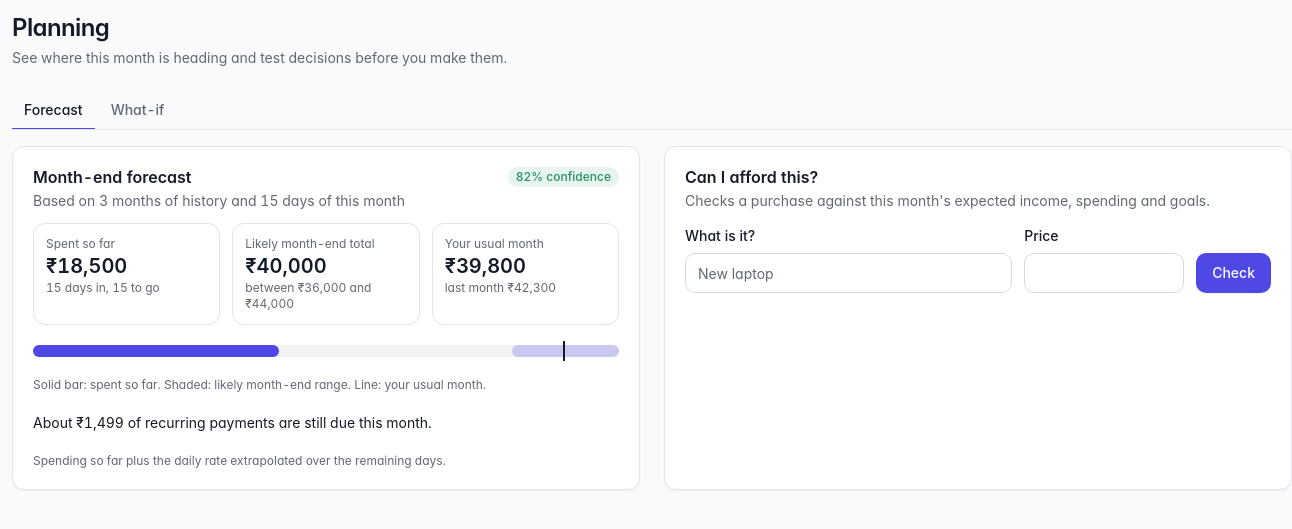
Scenario: PlanningPage › checks whether a purchase is affordable
Click the button "Check" at (1234, 273), box x1=1196 y1=253 x2=1271 y2=293
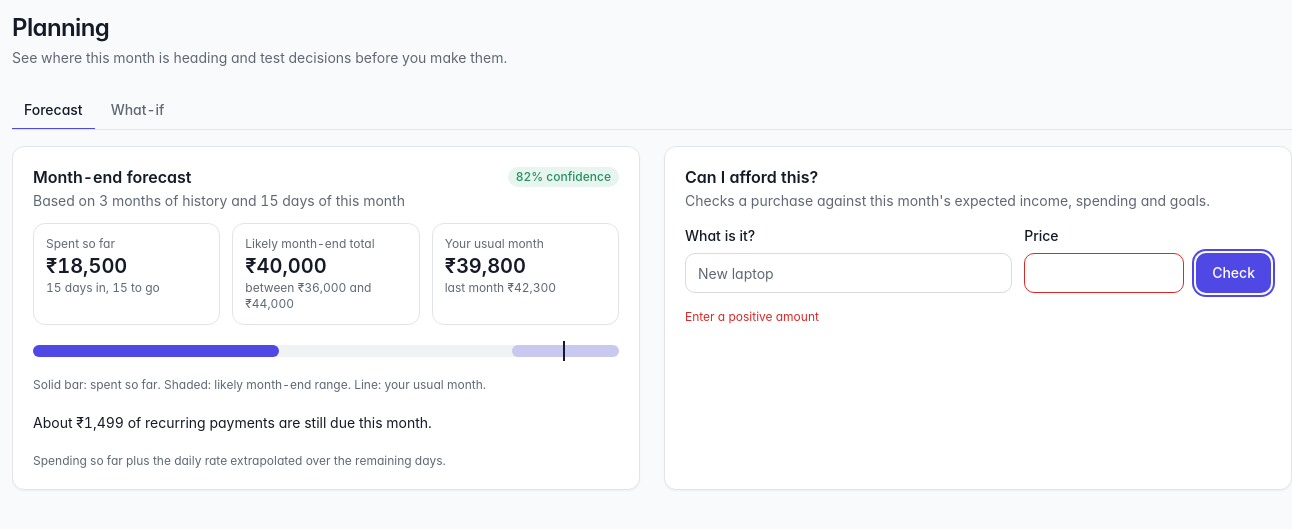
Now the text "Enter a positive amount" is shown, box x1=685 y1=309 x2=819 y2=324
Type "Laptop" into the field labelled "What is it?" at (849, 273), box x1=685 y1=253 x2=1012 y2=293
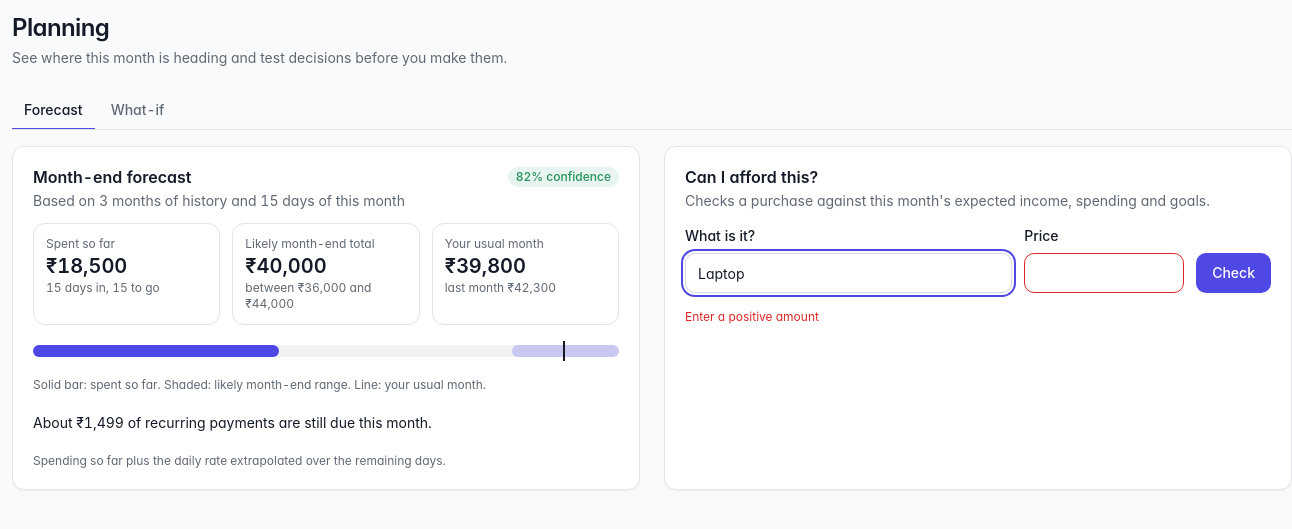
Type "10,000" into the field labelled "Price" at (1104, 273), box x1=1024 y1=253 x2=1184 y2=293
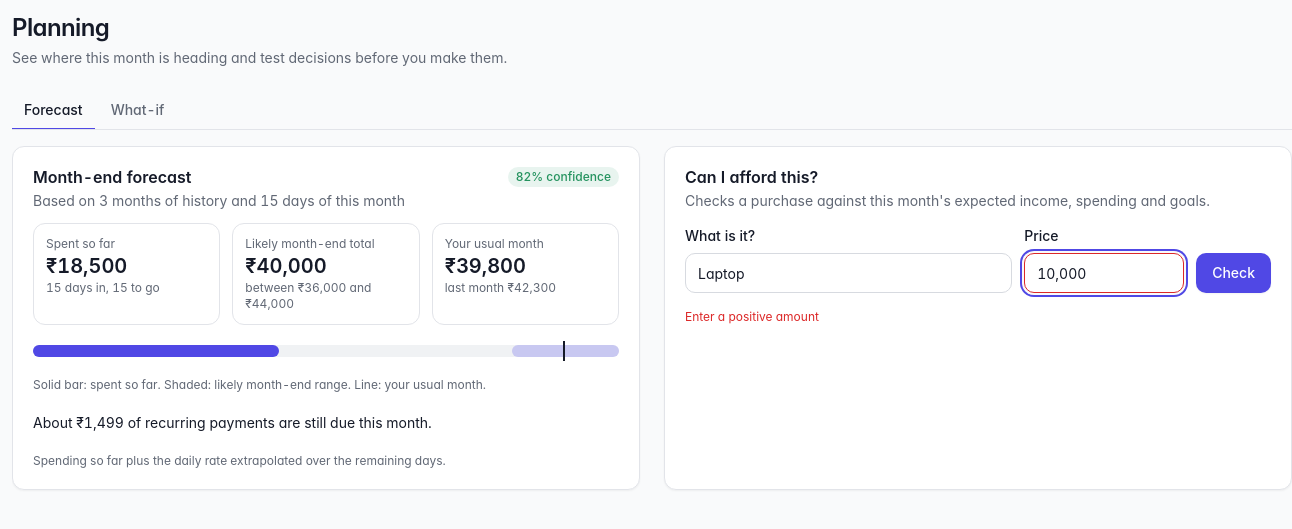
Click the button "Check" at (1234, 273), box x1=1196 y1=253 x2=1271 y2=293
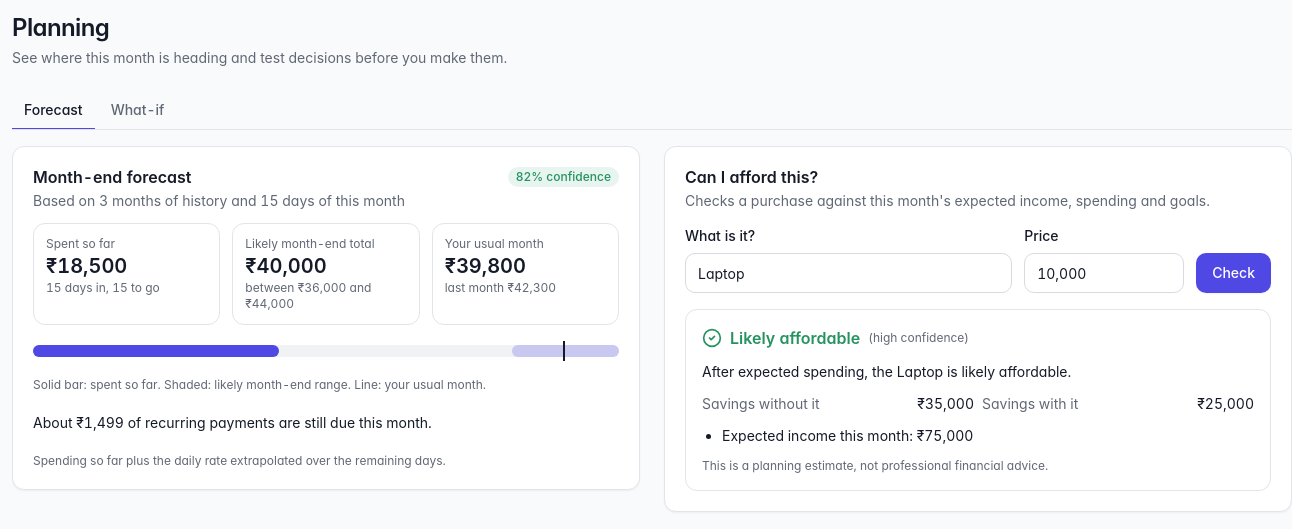
Now the text "Likely affordable" is shown, box x1=730 y1=328 x2=860 y2=348
Now the text "This is a planning estimate, not professional financial advice." is shown, box x1=702 y1=458 x2=1048 y2=473
